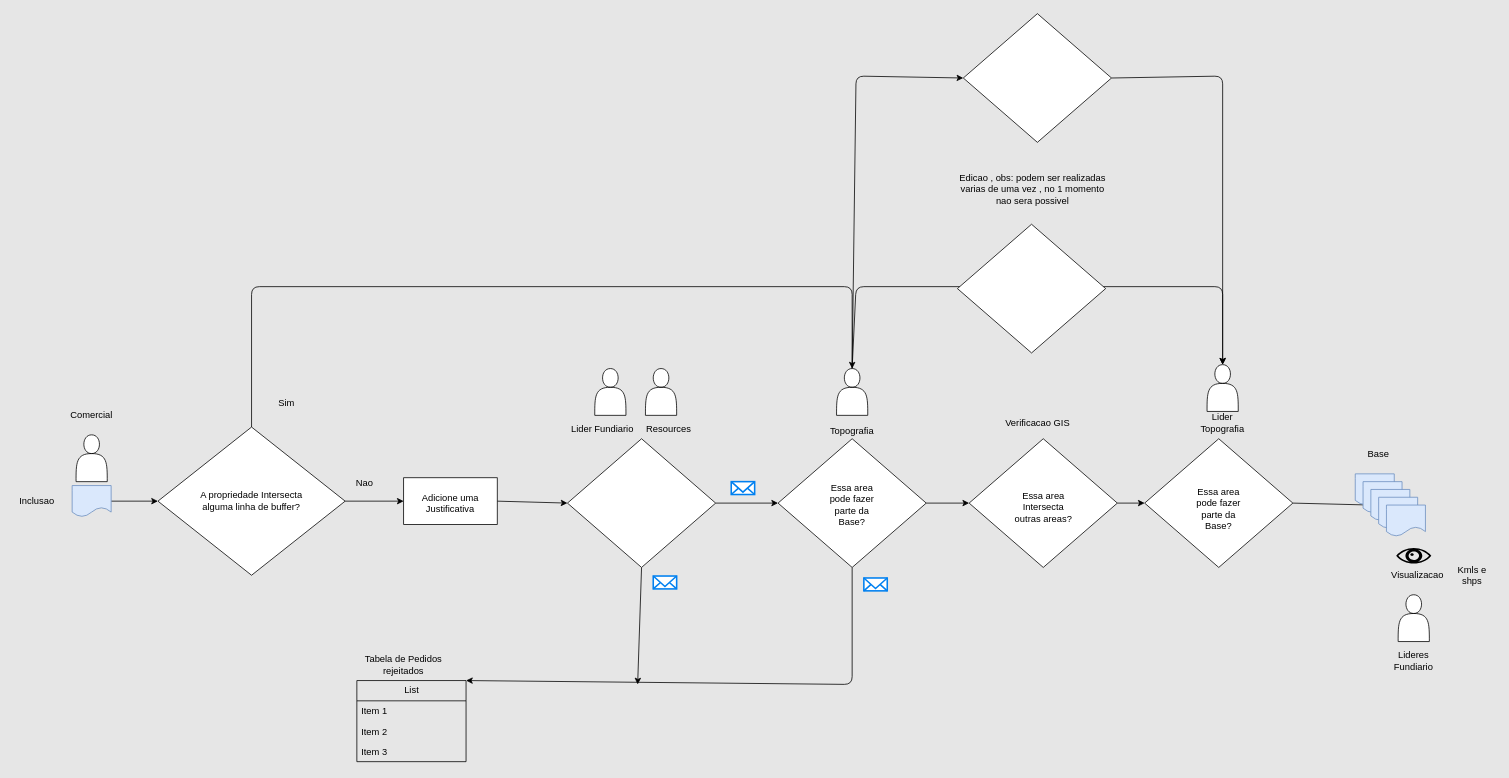
Some shapes in this 1509 by 778 pixel diagram are drawn without their labels. The shapes that lost their labels are listed below. From the top down, each one's centre as x and y in pixels, then its label:
the point at 1037,77: Inutilizacao permitida na base?
the point at 1031,288: Edicao permitida na base?
the point at 641,502: A justificativa e valida?
